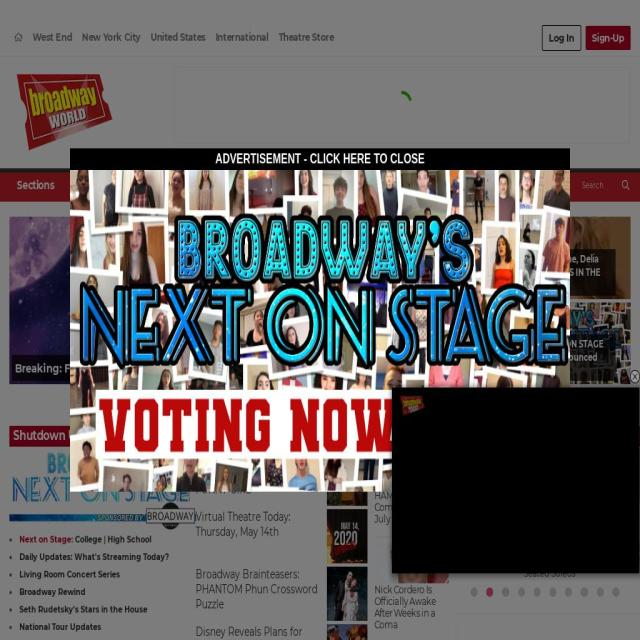button: (9, 213, 320, 385), (455, 448, 640, 580), (320, 298, 476, 385), (475, 298, 631, 385), (320, 213, 476, 299), (475, 213, 631, 299), (192, 566, 368, 622), (192, 509, 368, 564), (192, 452, 368, 506), (192, 624, 368, 640), (118, 171, 193, 207), (76, 18, 146, 56), (145, 18, 211, 56), (273, 18, 339, 56), (210, 18, 274, 56), (349, 171, 415, 207), (234, 171, 296, 207), (9, 171, 68, 207), (296, 171, 350, 207), (28, 18, 78, 56), (68, 171, 118, 207), (630, 213, 640, 385), (193, 171, 235, 207), (10, 18, 28, 57), (586, 30, 630, 43), (620, 162, 631, 208), (486, 586, 494, 598), (517, 586, 525, 598), (533, 586, 541, 598), (549, 586, 557, 598), (565, 586, 573, 598), (596, 586, 604, 598), (471, 586, 478, 598), (502, 586, 509, 598), (581, 586, 588, 598), (612, 586, 619, 598)
field: (580, 162, 631, 208)
heading: (374, 582, 436, 632), (373, 488, 448, 526), (13, 428, 175, 444), (459, 428, 558, 444), (196, 428, 260, 444), (378, 428, 440, 444), (336, 431, 359, 445), (612, 430, 634, 444)
iframe: (392, 388, 639, 574), (627, 370, 640, 388)
image: (0, 0, 640, 640), (70, 170, 570, 492), (9, 213, 320, 385), (455, 448, 640, 552), (9, 448, 197, 534), (320, 298, 476, 385), (475, 298, 631, 385), (320, 213, 476, 299), (475, 213, 631, 299), (17, 67, 113, 144), (374, 448, 448, 490), (374, 543, 448, 584), (327, 566, 368, 622), (327, 509, 368, 564), (327, 452, 368, 506), (583, 482, 608, 566), (630, 213, 640, 385), (327, 624, 368, 640), (14, 32, 24, 42), (622, 179, 630, 190)
link: (322, 334, 466, 382), (478, 334, 616, 382), (215, 152, 424, 173), (19, 551, 170, 563), (20, 603, 148, 616), (20, 568, 120, 581), (19, 621, 102, 633), (19, 586, 86, 598), (107, 533, 152, 546), (548, 31, 574, 45), (75, 533, 103, 546), (19, 638, 180, 640)
text: (174, 67, 630, 144), (320, 57, 631, 154), (12, 355, 307, 382), (322, 248, 466, 296), (478, 248, 616, 296), (195, 452, 317, 498), (195, 566, 317, 612), (457, 552, 640, 579), (455, 613, 640, 639), (195, 509, 291, 540), (118, 166, 188, 208), (234, 166, 290, 208), (9, 170, 62, 208), (67, 166, 112, 208), (195, 624, 303, 640), (193, 166, 228, 208), (586, 26, 630, 51), (19, 533, 72, 546), (296, 170, 344, 183), (102, 533, 108, 546), (71, 533, 76, 546)
